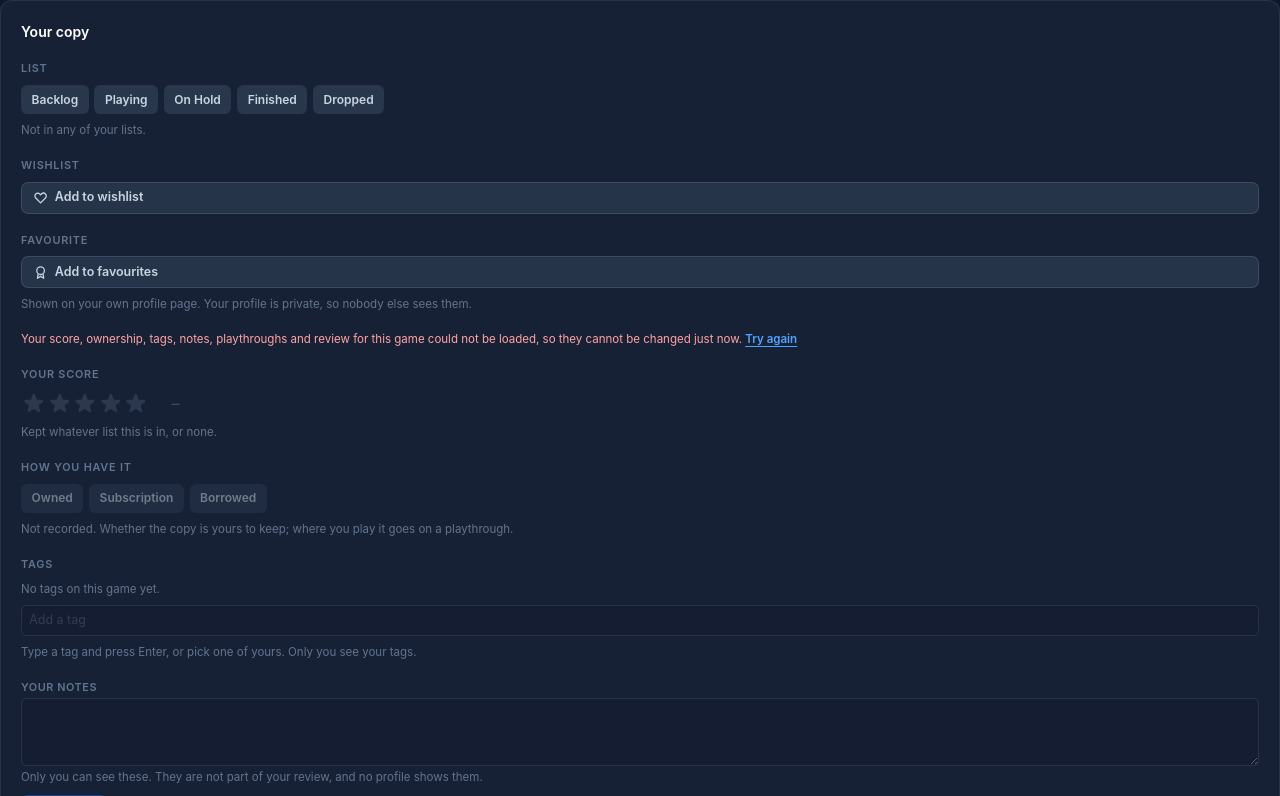
Test case: GameUserPanel when the entry cannot be read › reads it again on retry, and offers the controls once it arrives
Expected: the message is shown, x1=21 y1=331 x2=797 y2=348
What coordinates should you click on to do the following:
click the button "Try again"
I would click on:
 (771, 340)
Its box is x1=745 y1=331 x2=797 y2=348.
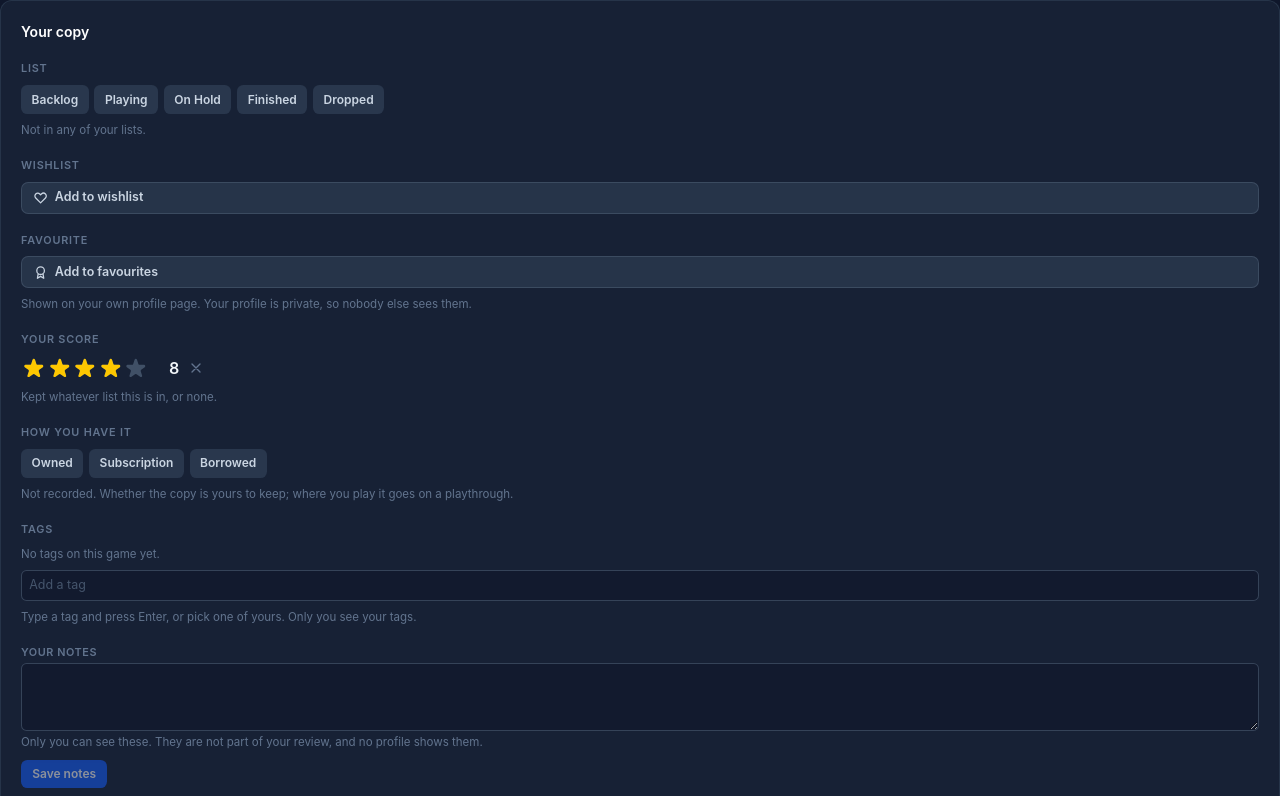
Now the element named "Your score for Celeste" is enabled, box x1=21 y1=356 x2=207 y2=381
Now the message "Your score, ownership, tags, notes, playthroughs and review for this game could" is gone
